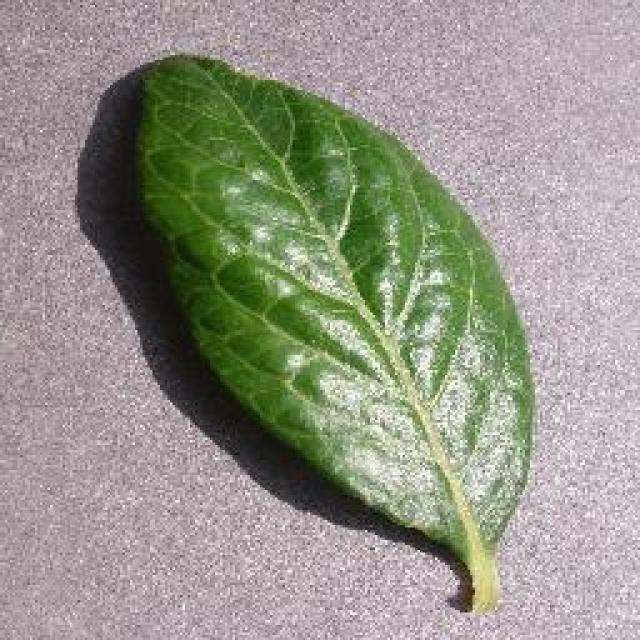Blu_healthy: (170, 115, 455, 457)
